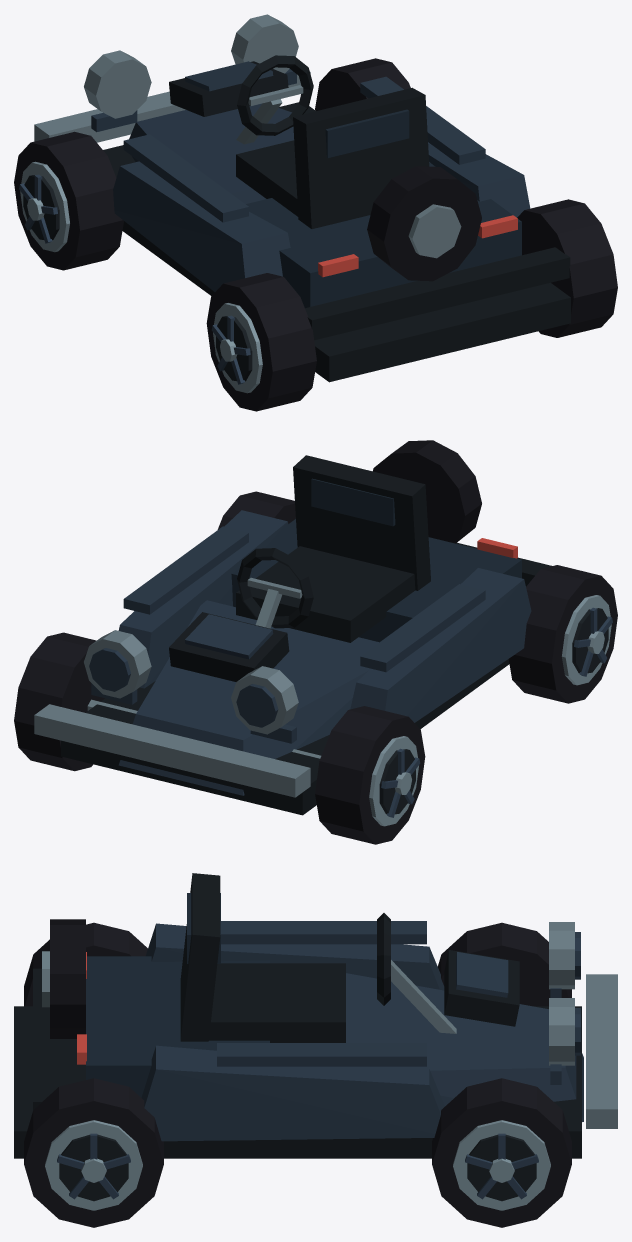
The model's file is kart.glb.
3 renders of one model, top to bottom at view 1: azimuth 30°, elevation 25°; view 2: azimuth 150°, elevation 25°; view 3: azimuth 270°, elevation 25°, orthographic. The views are drawn at different scales.
Parts seen in each view (by area): view 1: chassis, wheel-rear-left, wheel-front-left, wheel-rear-right, wheel-front-right; view 2: chassis, wheel-front-left, wheel-rear-left, wheel-front-right, wheel-rear-right; view 3: chassis, wheel-front-right, wheel-rear-right, wheel-front-left, wheel-rear-left.
Part boxes in pixels (box(x1,y1,x2,y2)): chassis: box(34, 14, 570, 382); wheel-rear-left: box(206, 273, 316, 411); wheel-front-left: box(14, 131, 123, 270); wheel-rear-right: box(517, 199, 617, 337); wheel-front-right: box(315, 58, 410, 110); chassis: box(34, 440, 551, 815); wheel-front-left: box(315, 706, 425, 844); wheel-rear-left: box(508, 565, 617, 703); wheel-front-right: box(14, 632, 104, 771); wheel-rear-right: box(217, 491, 295, 529); chassis: box(14, 873, 617, 1158); wheel-front-right: box(432, 1078, 571, 1227); wheel-rear-right: box(24, 1078, 163, 1227); wheel-front-left: box(437, 922, 571, 1006); wheel-rear-left: box(24, 922, 147, 1006).
Size of the model in its own units: 2.28 by 1.3 by 3.02.
